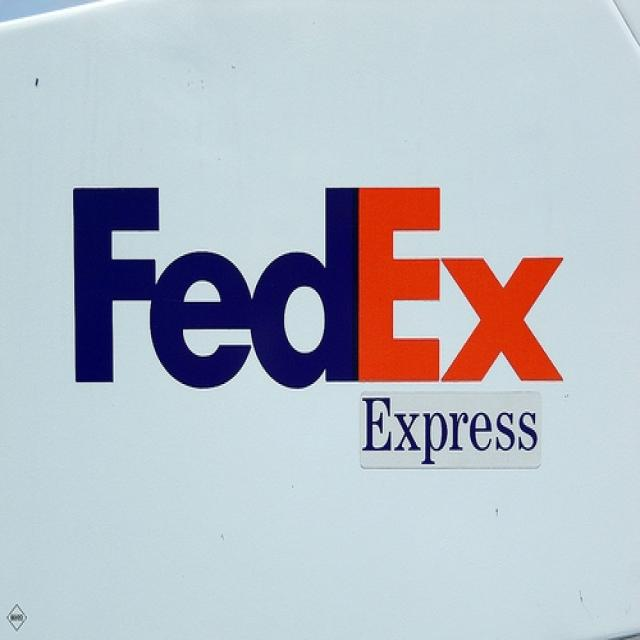fedex: (68, 175, 575, 392)
